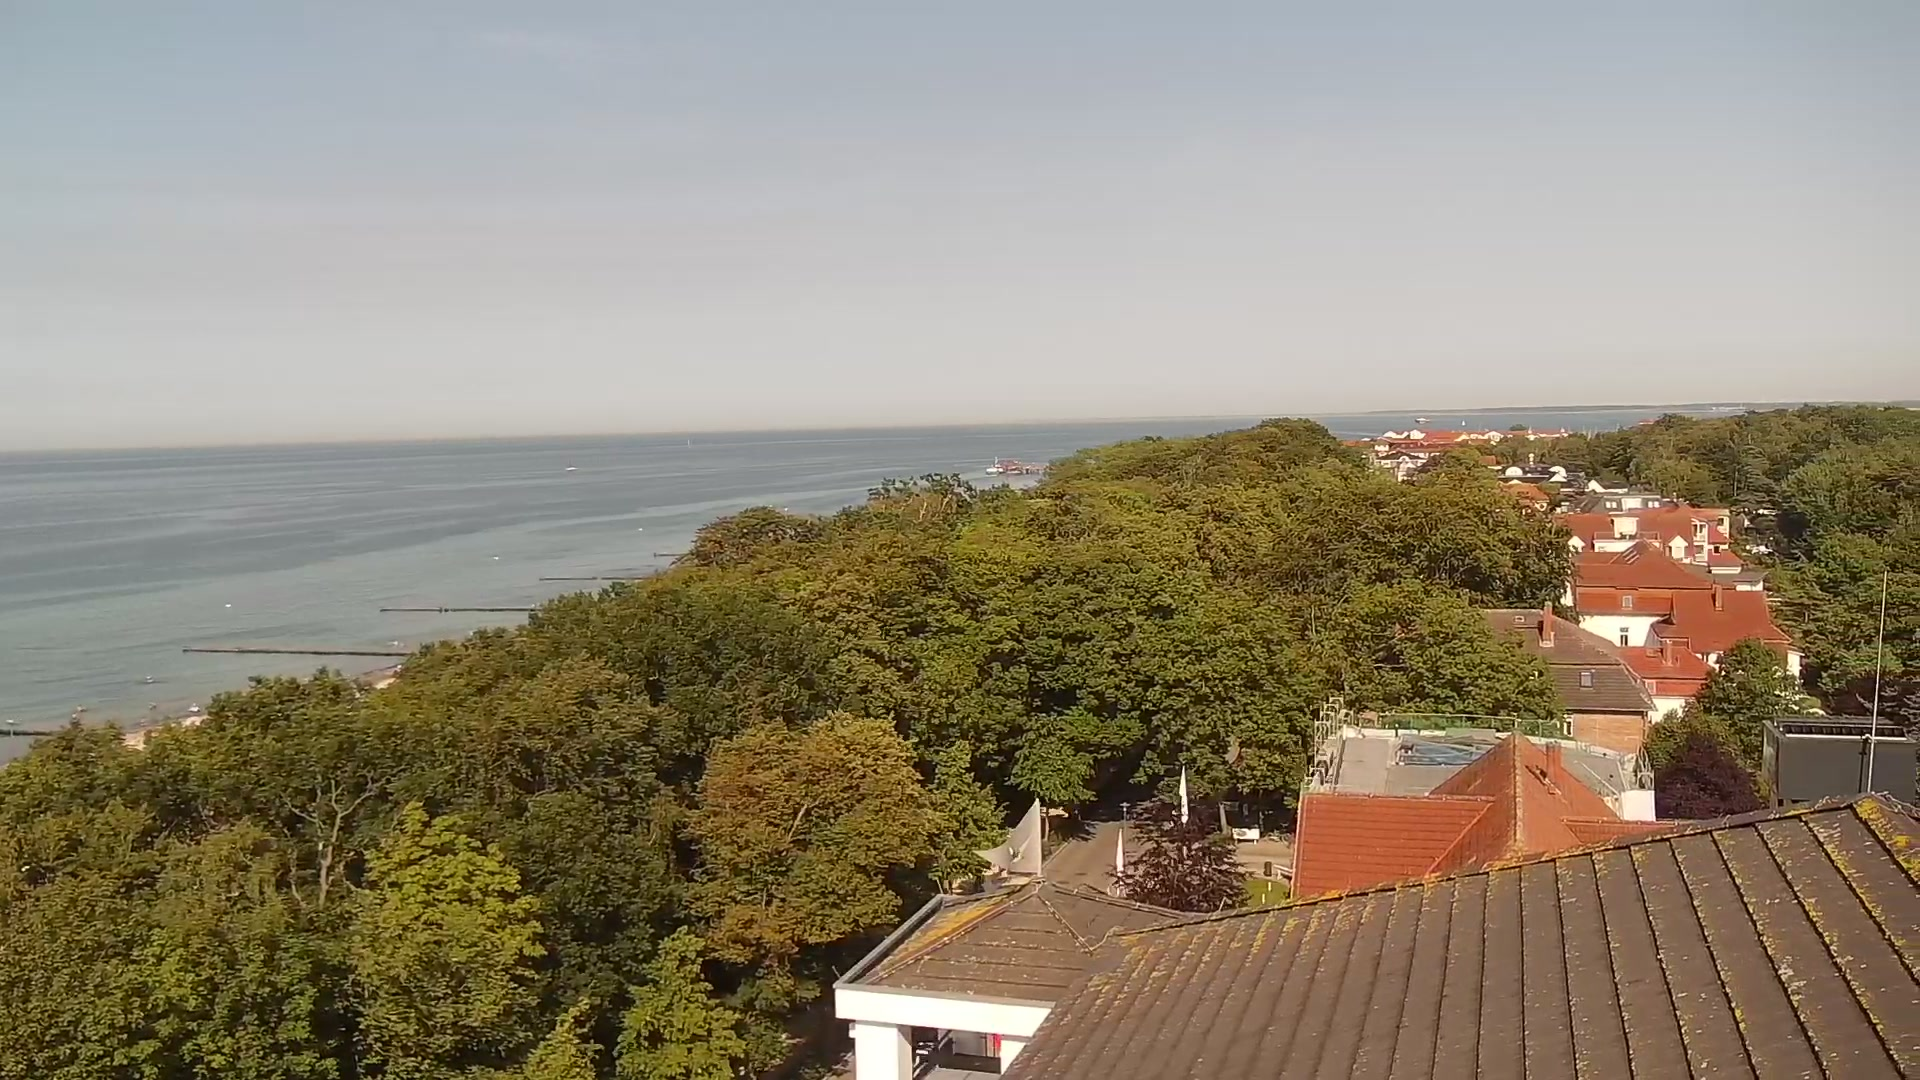sea: (984, 454, 1006, 473), (563, 459, 579, 471), (1414, 415, 1431, 425), (187, 705, 202, 713), (1526, 425, 1534, 435), (1458, 418, 1466, 426), (1559, 425, 1567, 433)
